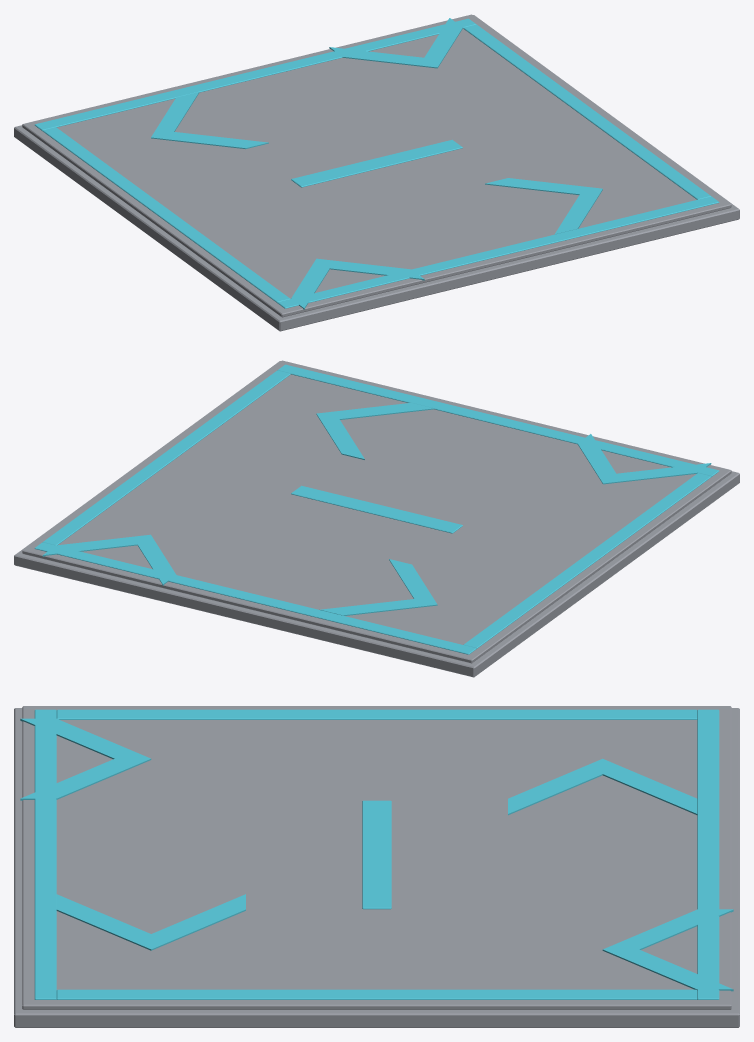
Rendered from laser-tag-arena-and-activity-centre-arena-floor-tile-t-3de93517__34470.glb.
3 views of the same model, one above another, from view 1: azimuth 30°, elevation 25°; view 2: azimuth 150°, elevation 25°; view 3: azimuth 270°, elevation 25° (orthographic). The views are drawn at different scales.
Parts seen in each view (by area): view 1: arena-floor-tile-teal; view 2: arena-floor-tile-teal; view 3: arena-floor-tile-teal.
Boxes of the visible parts, x1=… form: arena-floor-tile-teal: x1=14, y1=14, x2=739, y2=331; arena-floor-tile-teal: x1=14, y1=360, x2=739, y2=677; arena-floor-tile-teal: x1=14, y1=706, x2=739, y2=1027.
Bounding box in the file's own units: 1.99 × 0.0639 × 1.99.
